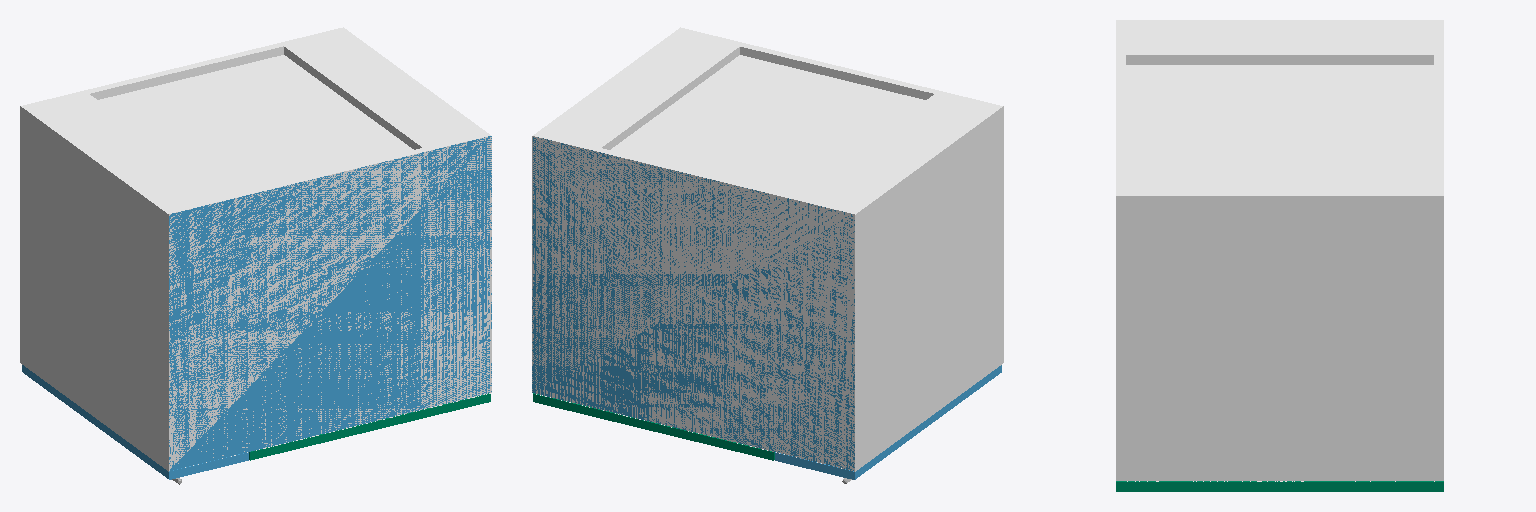
The robot description file, URDF, robot "right-pull-door":
<?xml version="1.0" ?>
<robot name="right-pull-door">
	<link name="base"/>
	<link name="link_0">
		<visual name="out-frame">
			<origin xyz="0 0 0"/>
			<geometry>
				<mesh filename="texture_dae/frame.dae" scale="0.7 0.7 0.7"/>
			</geometry>
		</visual>
		<collision>
			<origin xyz="0 0 0"/>
			<geometry>
				<mesh filename="texture_dae/frame.dae" scale="0.7 0.7 0.7"/>
			</geometry>
		</collision>
	</link>
	<joint name="joint_0" type="fixed">
		<origin rpy="1.570796326794897 0 -1.570796326794897" xyz="0 0 0"/>
		<child link="link_0"/>
		<parent link="base"/>
	</joint>
	<link name="link_1">
		<visual name="surf-board">
			<origin xyz="0.6864662081003189 -0.2072462277052586 0"/>
			<geometry>
				<mesh filename="texture_dae/board.dae" scale="0.7 0.7 0.7"/>
			</geometry>
		</visual>
		<collision>
			<origin xyz="0.6864662081003189 -0.2072462277052586 0"/>
			<geometry>
				<mesh filename="texture_dae/board.dae" scale="0.7 0.7 0.7"/>
			</geometry>
		</collision>
	</link>
	<joint name="joint_1" type="revolute">
		<origin xyz="-0.6864662081003189 0.2072462277052586 0"/>
		<axis xyz="0 -1 0"/>
		<child link="link_1"/>
		<parent link="link_0"/>
		<limit lower="0" upper="1.5079644737231006"/>
	</joint>
	<link name="link_2">
		<visual name="handle">
			<origin xyz="0 0 0"/>
			<geometry>
				<mesh filename="texture_dae/9962019.dae" scale="1.5081689046448072 1.5081689046448072 1.5081689046448072"/>
			</geometry>
		</visual>
		<collision>
			<origin xyz="0 0 0"/>
			<geometry>
				<mesh filename="texture_dae/9962019.dae" scale="1.5081689046448072 1.5081689046448072 1.5081689046448072"/>
			</geometry>
		</collision>
	</link>
	<joint name="joint_2" type="revolute">
		<origin xyz="0.6864662081003189 -0.2072462277052586 0.01180799193144554"/>
		<child link="link_2"/>
		<parent link="link_1"/>
		<axis xyz="0 0 1"/>
		<limit lower="0" upper="1.5079644737231006"/>
	</joint>
</robot>

--- Facts derived from the render (not from the file) ---
Views: 3 orthographic renders of the robot side by side, from view 1: azimuth 30°, elevation 25°; view 2: azimuth 150°, elevation 25°; view 3: azimuth 270°, elevation 25°.
Model right-pull-door with 4 links and 3 joints (2 revolute, 1 fixed), rooted at base, posed all joints at 0.
Links seen in each view (by area): view 1: link_0, link_1; view 2: link_0, link_1; view 3: link_0, link_1.
Boxes of the visible links, x1,y1,x2,y2 form: link_0: (20,27,491,484); link_1: (249,393,490,460); link_0: (532,27,1003,483); link_1: (533,393,774,460); link_0: (1116,20,1443,480); link_1: (1116,481,1443,491).
Size in the robot's own frame: 0.9483 by 0.7527 by 0.7919 metres.
2 mesh visuals loaded from 3 distinct referenced files (2 Collada DAE); not drawn: 1 (reference not matched to a file when rendering).
